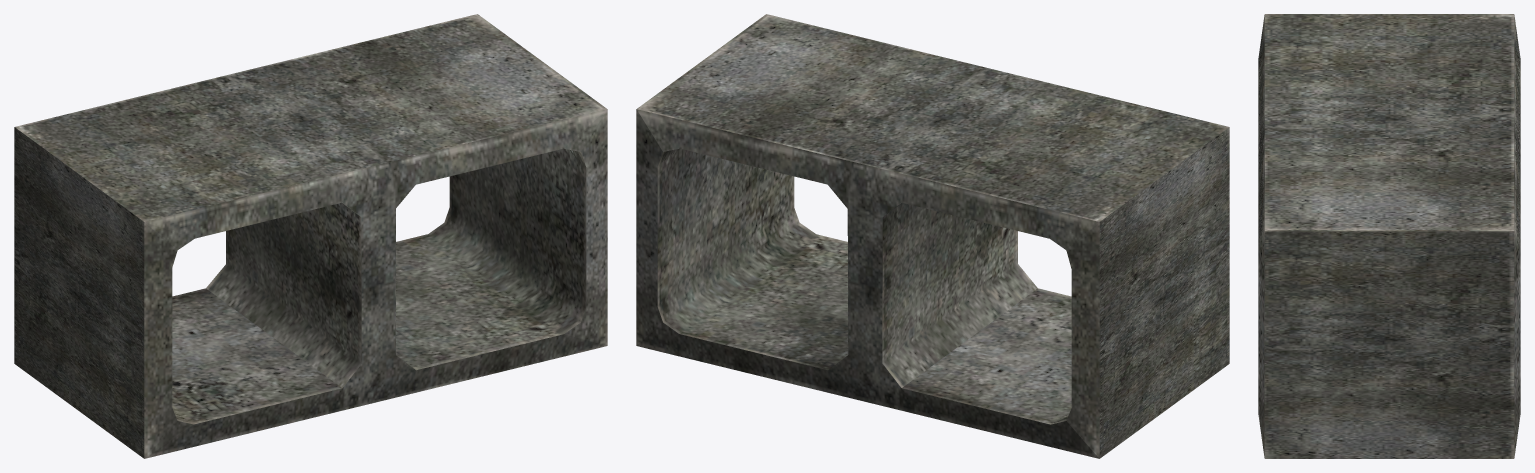
Rendered from p_glo_cinder_block_big_lod1.glb.
3 renders of one model, left to right at view 1: azimuth 30°, elevation 25°; view 2: azimuth 150°, elevation 25°; view 3: azimuth 270°, elevation 25°, orthographic. The views are drawn at different scales.
Visible parts, largest first — view 1: p_glo_cinder_block_lod1; view 2: p_glo_cinder_block_lod1; view 3: p_glo_cinder_block_lod1.
Boxes of the visible parts, x1=… form: p_glo_cinder_block_lod1: x1=14, y1=14, x2=607, y2=458; p_glo_cinder_block_lod1: x1=636, y1=14, x2=1229, y2=458; p_glo_cinder_block_lod1: x1=1258, y1=14, x2=1520, y2=458.
Bounding box in the file's own units: 23.5 × 11.49 × 12.
Materials: 1 (1 with a texture image).
